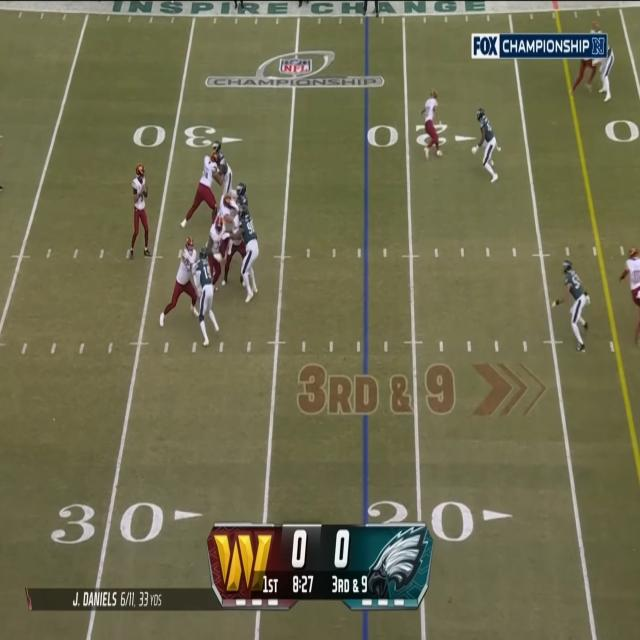Ball: (140, 184, 148, 196)
